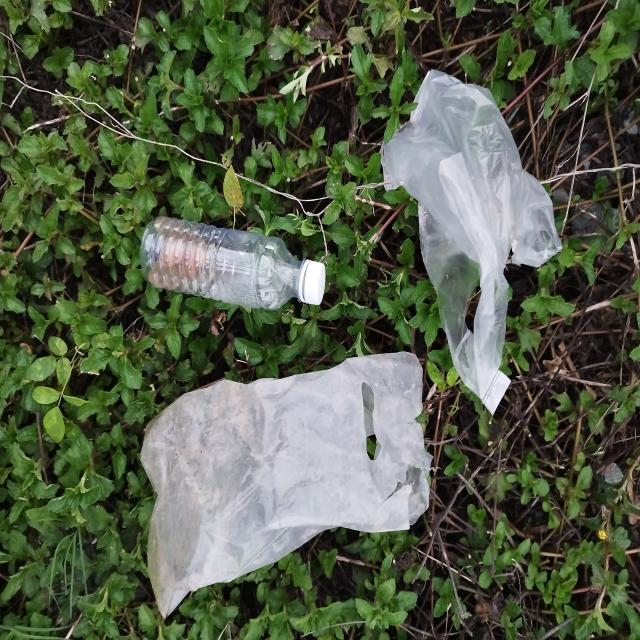bag: (139, 351, 433, 619), (380, 66, 562, 416)
bottle: (138, 214, 328, 314)
